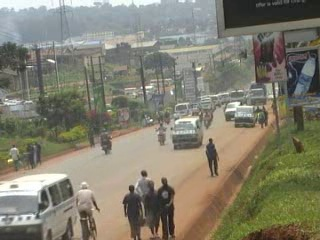Car: (190, 101, 202, 114)
Motorcycle: (99, 126, 115, 156), (152, 121, 167, 145), (201, 110, 210, 130), (155, 108, 164, 127), (164, 108, 171, 124), (195, 108, 203, 121)
